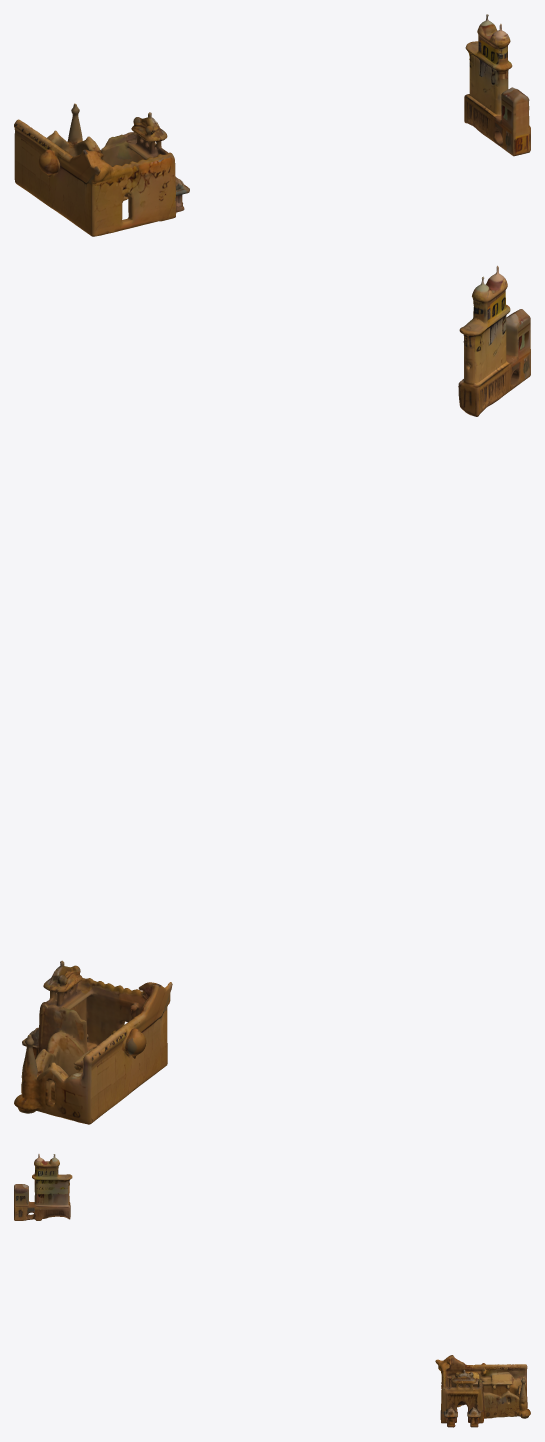
File: amber_fort.glb
3 views of the same model, one above another, from view 1: azimuth 30°, elevation 25°; view 2: azimuth 150°, elevation 25°; view 3: azimuth 270°, elevation 25° (orthographic). The views are drawn at different scales.
Parts seen in each view (by area): view 1: tripo_node_5853421b-63f2-4b64-bbad-f8596ced6e3b; view 2: tripo_node_5853421b-63f2-4b64-bbad-f8596ced6e3b; view 3: tripo_node_5853421b-63f2-4b64-bbad-f8596ced6e3b.
Part boxes in pixels (left/top/right/bottom): tripo_node_5853421b-63f2-4b64-bbad-f8596ced6e3b: left=14, top=14, right=530, bottom=236; tripo_node_5853421b-63f2-4b64-bbad-f8596ced6e3b: left=14, top=265, right=530, bottom=1124; tripo_node_5853421b-63f2-4b64-bbad-f8596ced6e3b: left=14, top=1154, right=530, bottom=1427.
Size of the model in its own units: 0.1484 by 0.5601 by 1.
Materials: 1 (1 with a texture image).
